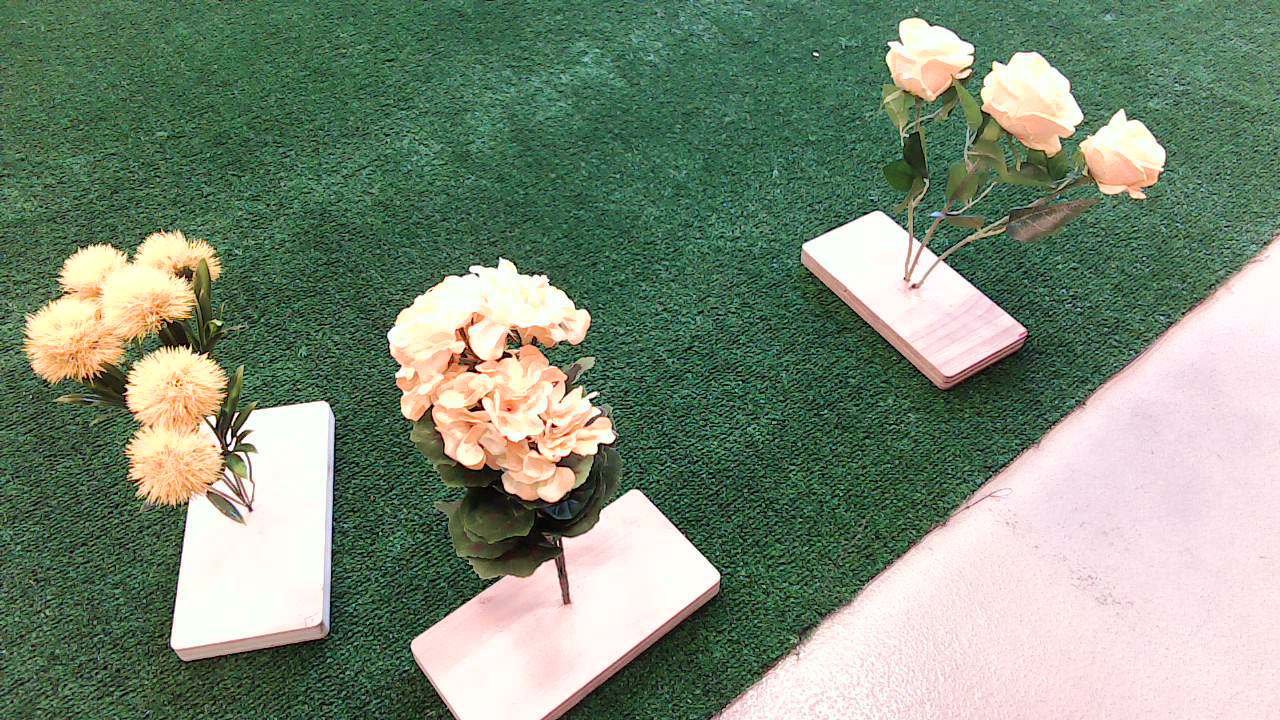dandelion: (26, 234, 294, 554)
geranium: (360, 259, 643, 621)
rose: (835, 19, 1173, 282)
